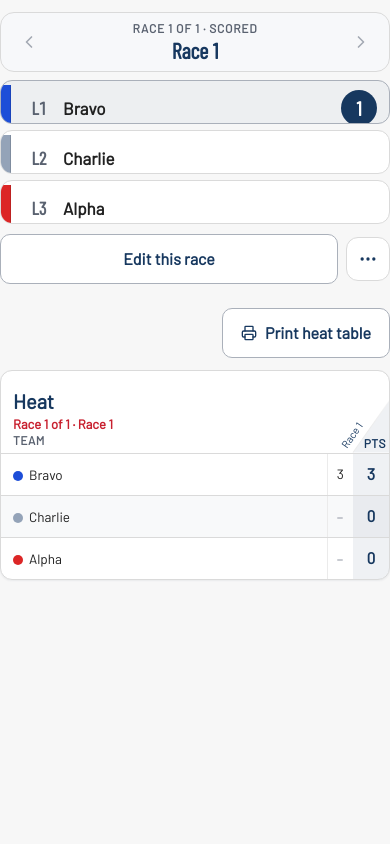
Test: shows an existing half-point score when a scorer link cannot read its private directive
Click the button "Edit this race" at (169,259), box top-left (0, 234), bottom-right (338, 284)
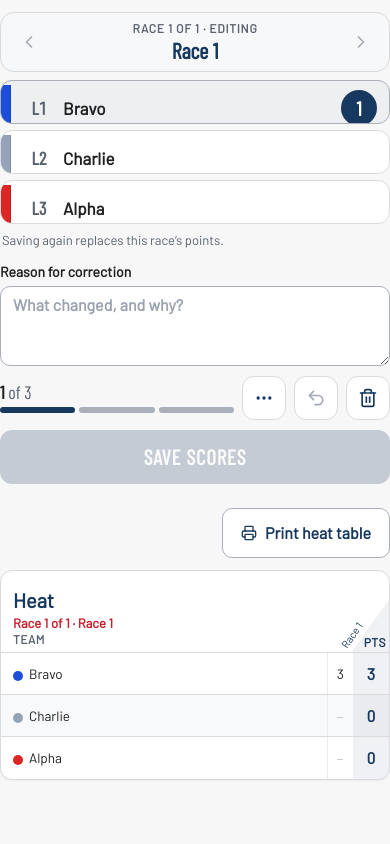
Click the button named "Race tools" at (264,398), box top-left (242, 376), bottom-right (286, 420)
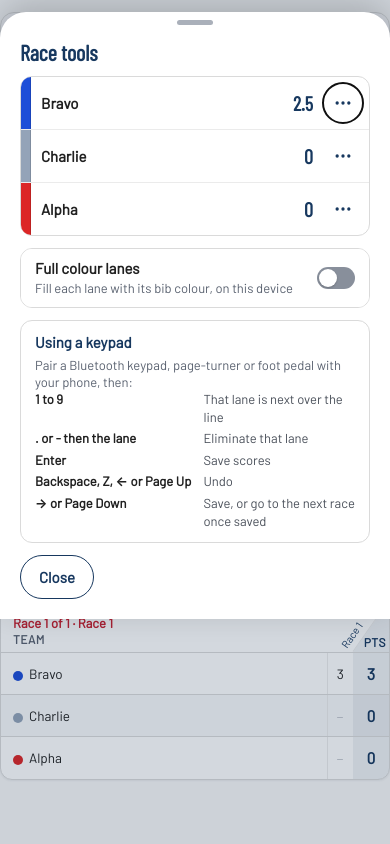
expect the text named "2.5 points" is shown: met, box top-left (293, 91), bottom-right (313, 115)
